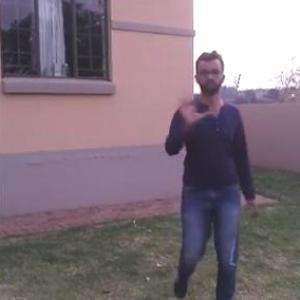follow_hand: (171, 86, 210, 126)
